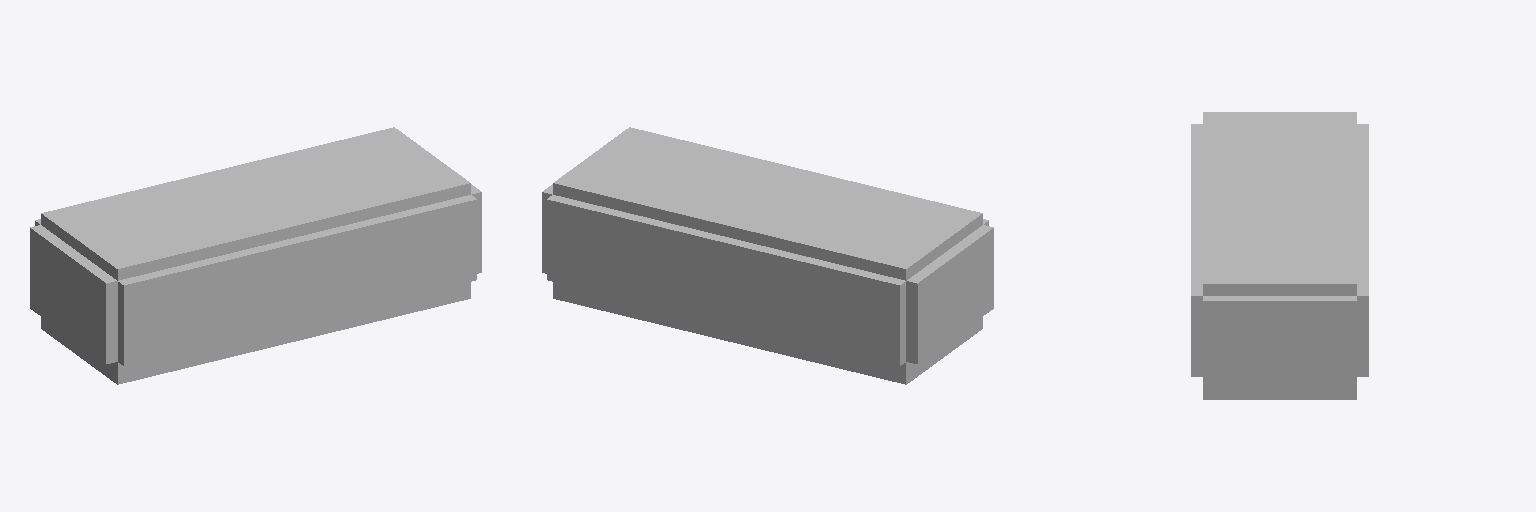
File: mission3.obj
3 views of the same model, side by side, from view 1: azimuth 30°, elevation 25°; view 2: azimuth 150°, elevation 25°; view 3: azimuth 270°, elevation 25° (orthographic).
Visible parts, largest first — view 1: entity0_brush3, entity0_brush1, entity0_brush4, entity0_brush0; view 2: entity0_brush3, entity0_brush2, entity0_brush4, entity0_brush0; view 3: entity0_brush3, entity0_brush5, entity0_brush1, entity0_brush2, entity0_brush0.
Boxes of the visible parts, box(x1,y1,x2,y2) form: entity0_brush3: box(41, 127, 470, 280); entity0_brush1: box(118, 195, 476, 365); entity0_brush4: box(30, 225, 117, 363); entity0_brush0: box(41, 282, 470, 384); entity0_brush3: box(553, 127, 982, 280); entity0_brush2: box(547, 195, 905, 365); entity0_brush4: box(906, 225, 993, 363); entity0_brush0: box(553, 282, 982, 384); entity0_brush3: box(1203, 112, 1356, 295); entity0_brush5: box(1203, 296, 1356, 381); entity0_brush1: box(1191, 124, 1202, 376); entity0_brush2: box(1357, 124, 1368, 376); entity0_brush0: box(1203, 382, 1356, 399).
Size of the model in its own units: 544 by 160 by 224.